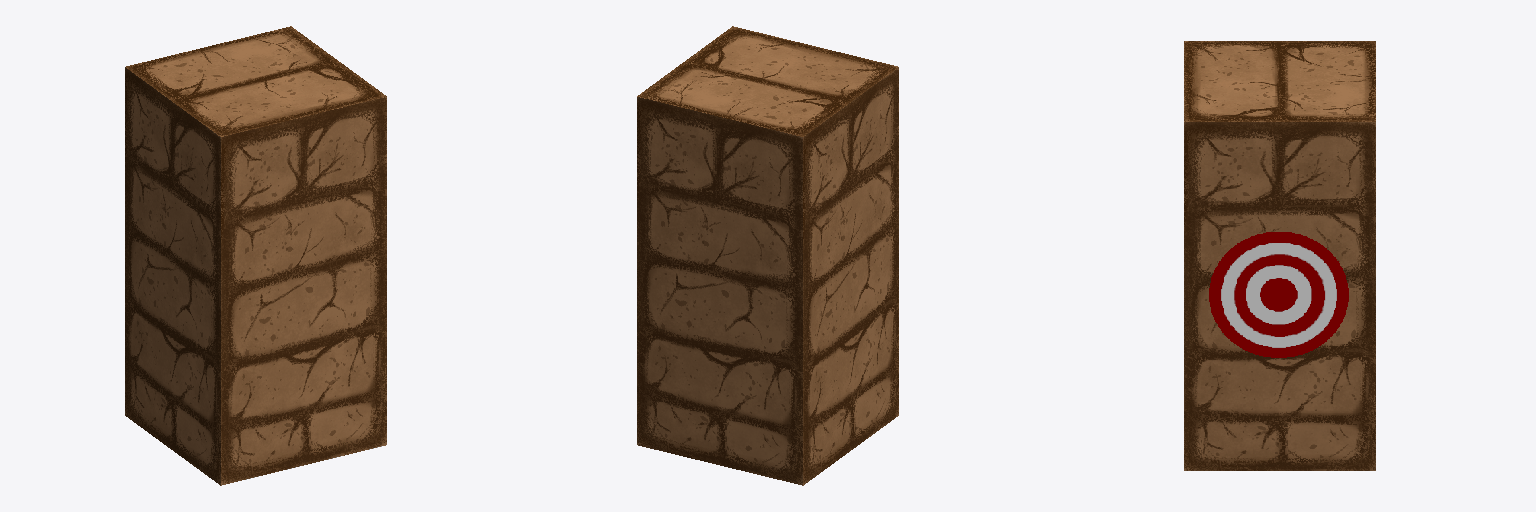
The picture shows the model from 3 angles: view 1: azimuth 30°, elevation 25°; view 2: azimuth 150°, elevation 25°; view 3: azimuth 270°, elevation 25°; orthographic projection.
Visible parts, largest first — view 1: E_Estatua1; view 2: E_Estatua1; view 3: E_Estatua1.
Boxes of the visible parts, box(x1,y1,x2,y2) form: E_Estatua1: box(125, 26, 386, 485); E_Estatua1: box(637, 26, 898, 485); E_Estatua1: box(1184, 41, 1375, 470).
Bounding box in the file's own units: 1 × 2 × 1.
Materials: 1 (1 with a texture image).